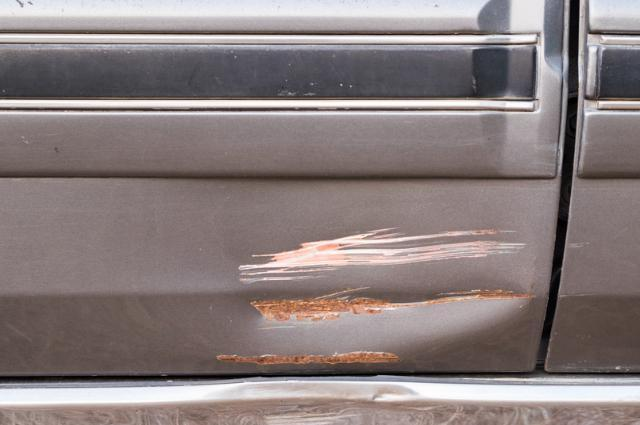Door: (197, 213, 540, 403)
